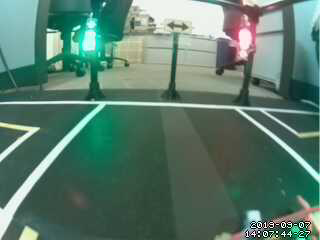Left_Right_sign: (160, 16, 194, 35)
Traffic_light_green: (81, 16, 98, 52)
Traffic_light_red: (234, 26, 258, 60)
